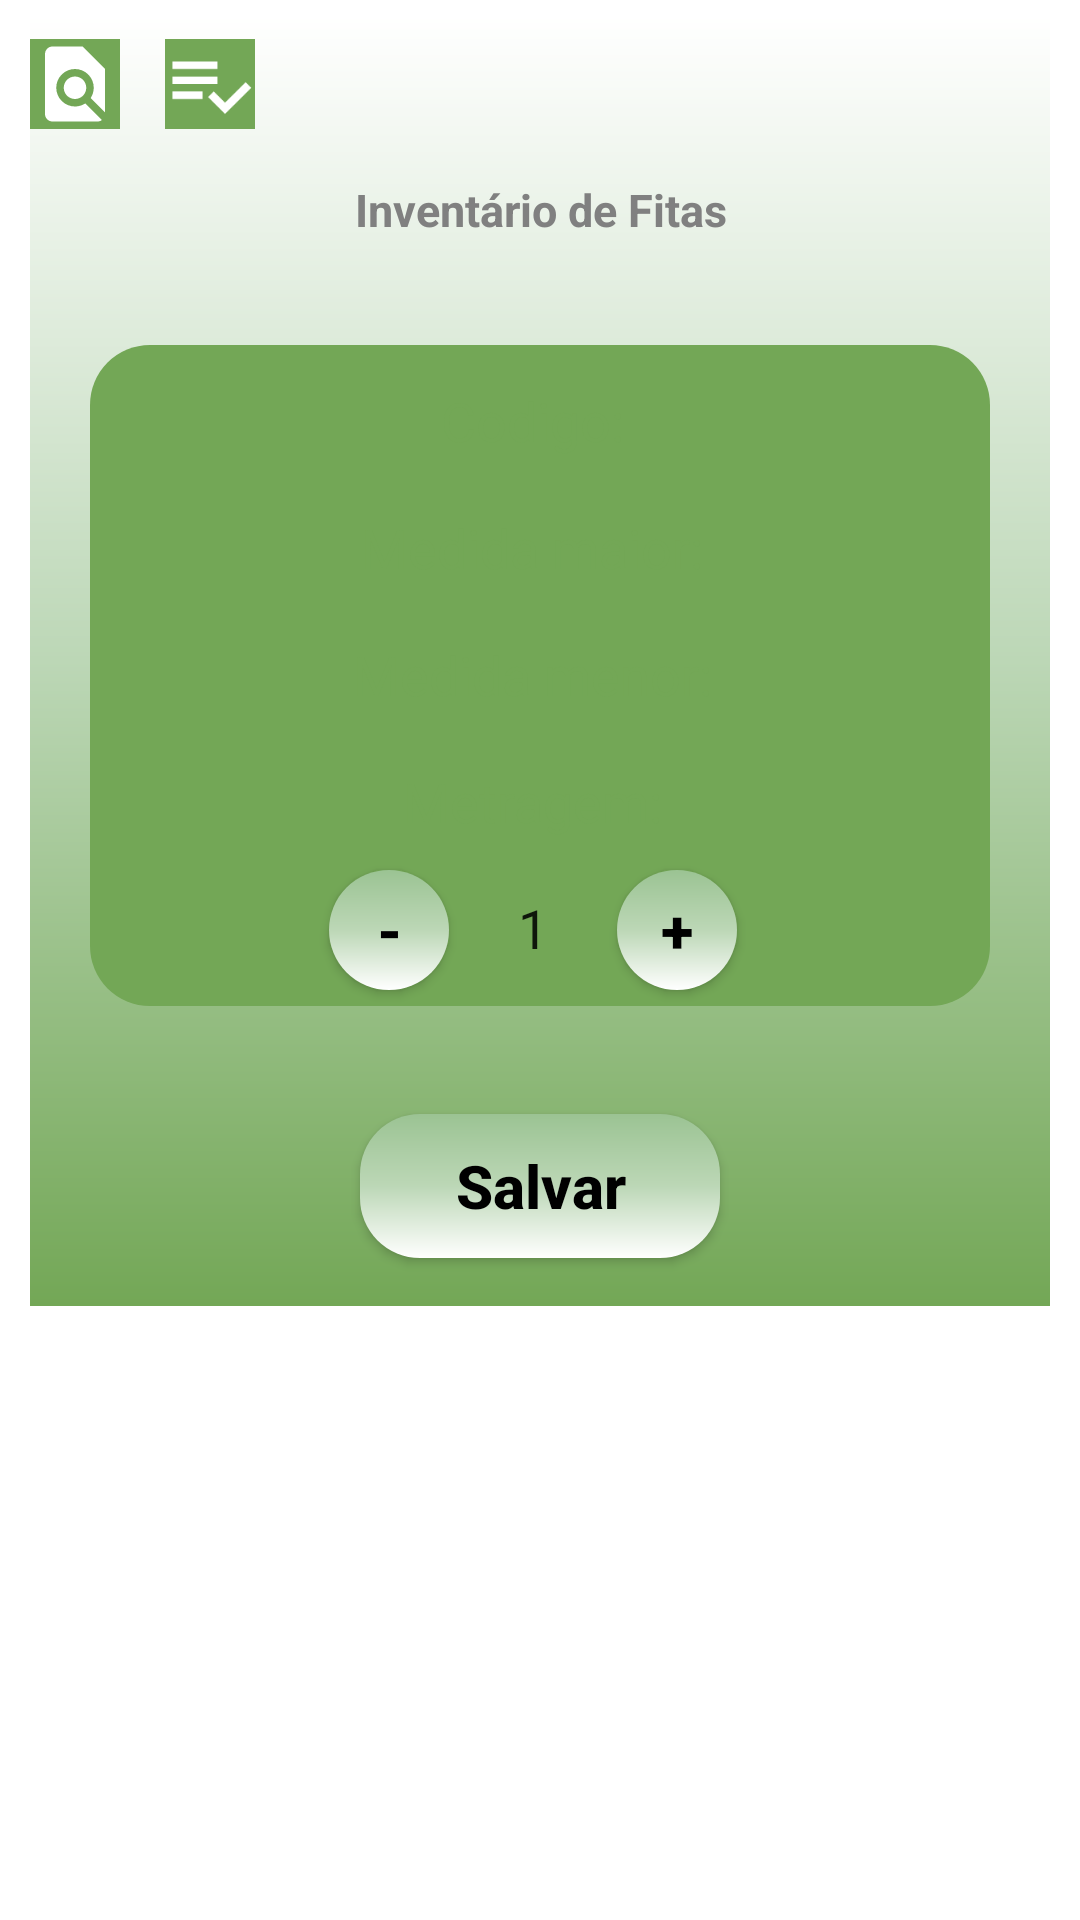

Named icons in this screenshot (1080w x 1920h) and their bounding boxes, Rect(x1, y1, x2, y2):
list: Rect(165, 39, 255, 129)
localizar: Rect(30, 39, 120, 129)
